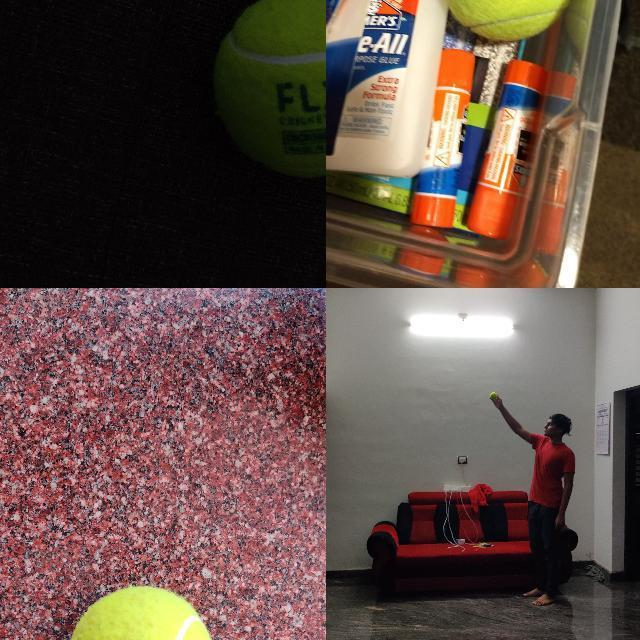tennis-ball: (211, 0, 325, 179), (67, 586, 213, 639), (438, 0, 578, 42), (489, 391, 497, 399)
